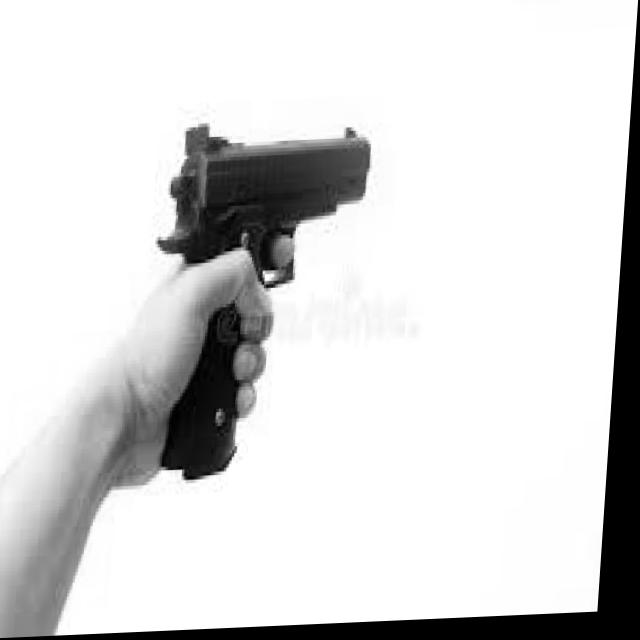handgun: (156, 117, 375, 484)
